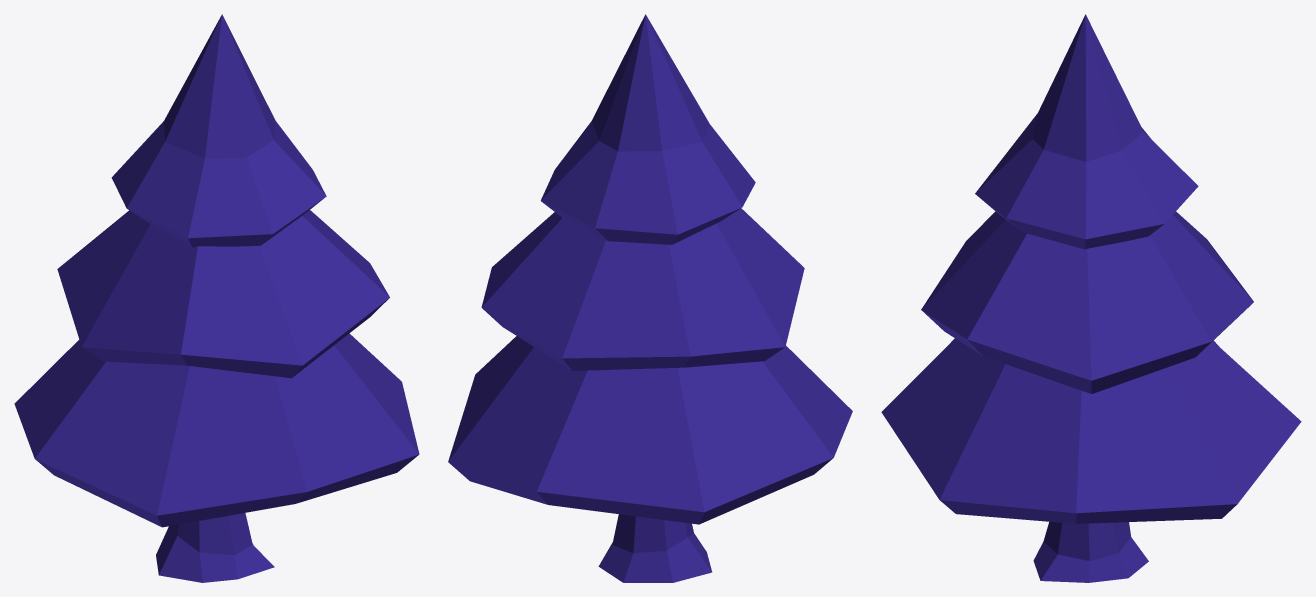
Rendered from tree.glb.
The picture shows the model from 3 angles, left to right: view 1: azimuth 30°, elevation 25°; view 2: azimuth 150°, elevation 25°; view 3: azimuth 270°, elevation 25°; orthographic projection.
Visible parts, largest first — view 1: Tree_Spruce_tiny_02; view 2: Tree_Spruce_tiny_02; view 3: Tree_Spruce_tiny_02.
Part boxes in pixels (<box>): Tree_Spruce_tiny_02: <box>14,14,419,582</box>; Tree_Spruce_tiny_02: <box>448,14,852,582</box>; Tree_Spruce_tiny_02: <box>881,14,1301,582</box>.
Size of the model in its own units: 7.67 by 10.98 by 7.58.
